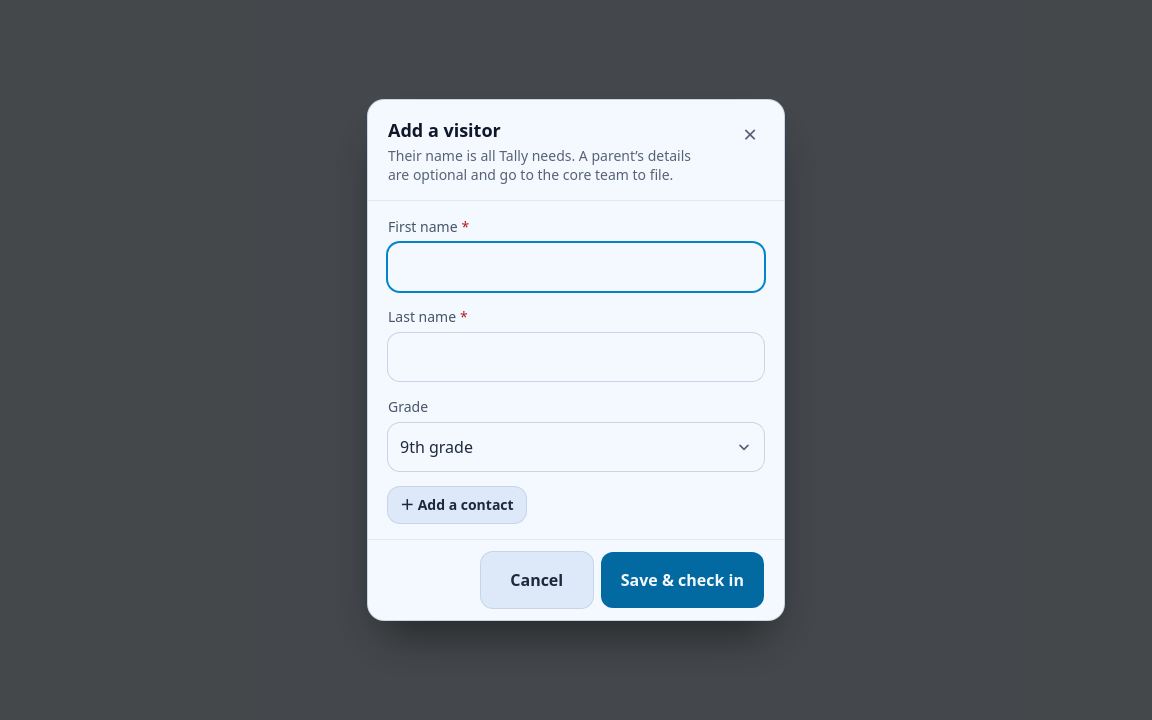
Test: the contact › refuses a name with no number behind it
In the field labelled "First name*": (576, 267) [388, 243, 764, 291], type "Robin"
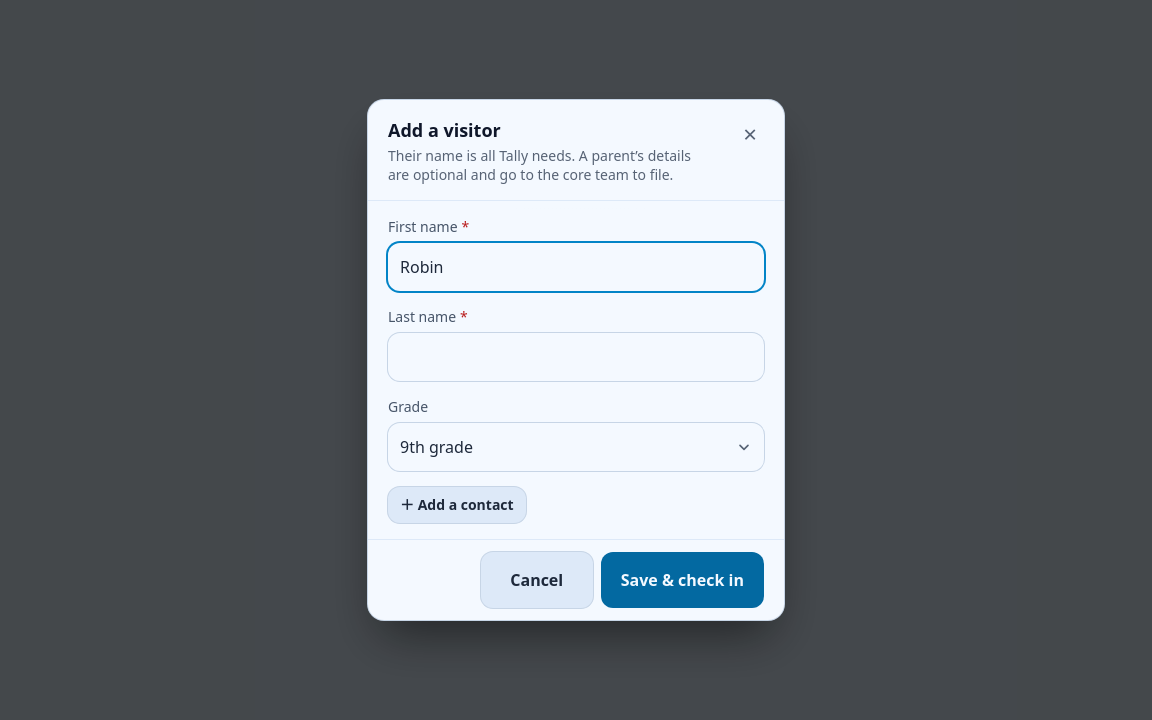
In the field labelled "Last name*": (576, 357) [388, 333, 764, 381], type "Fields"
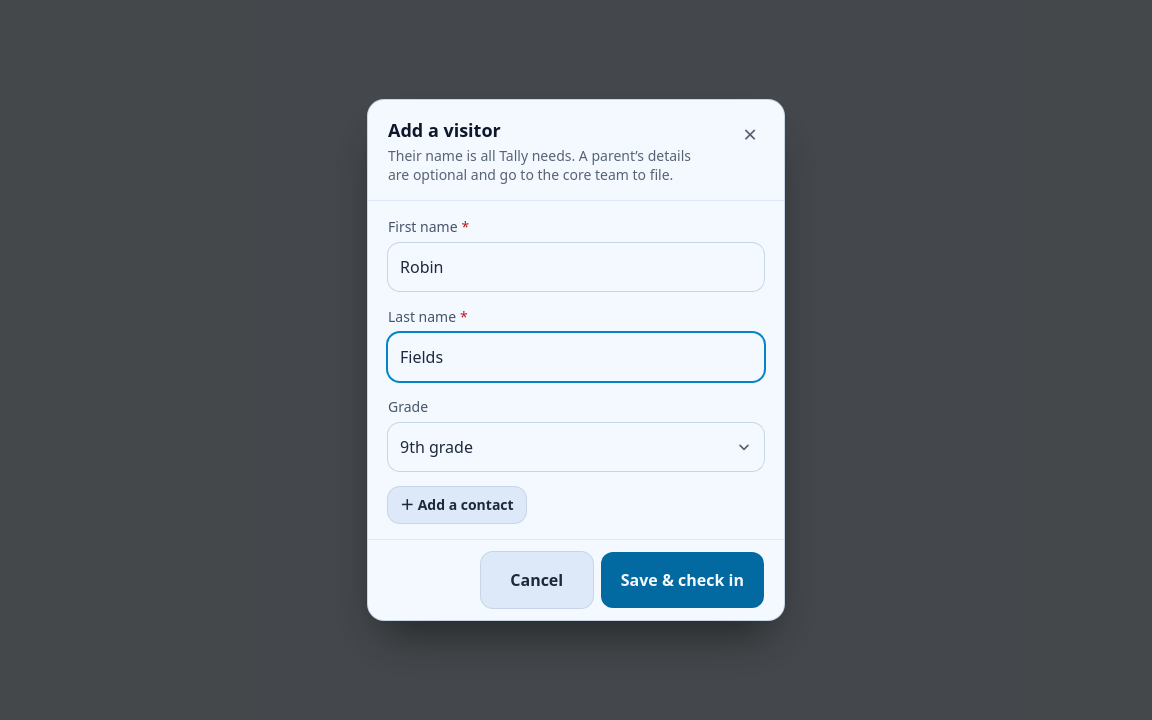
Click the button "＋ Add a contact": (457, 505) [388, 487, 526, 523]
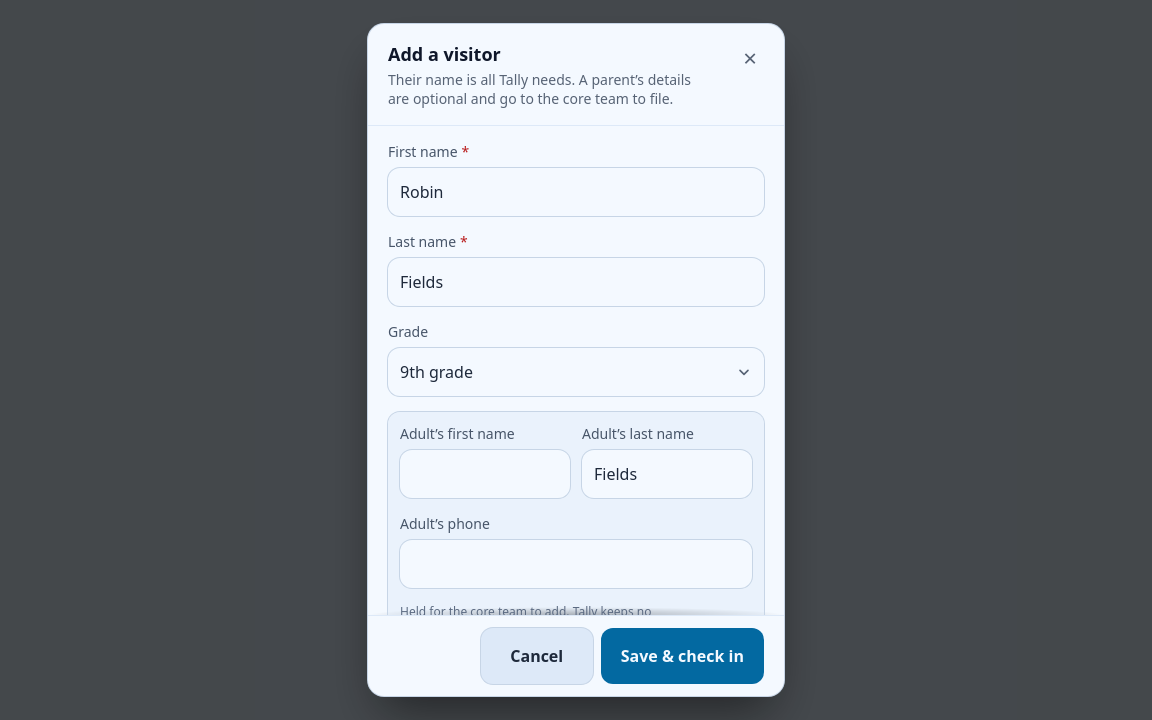
In the field labelled "Adult’s first name": (485, 474) [400, 450, 570, 498], type "Dana"
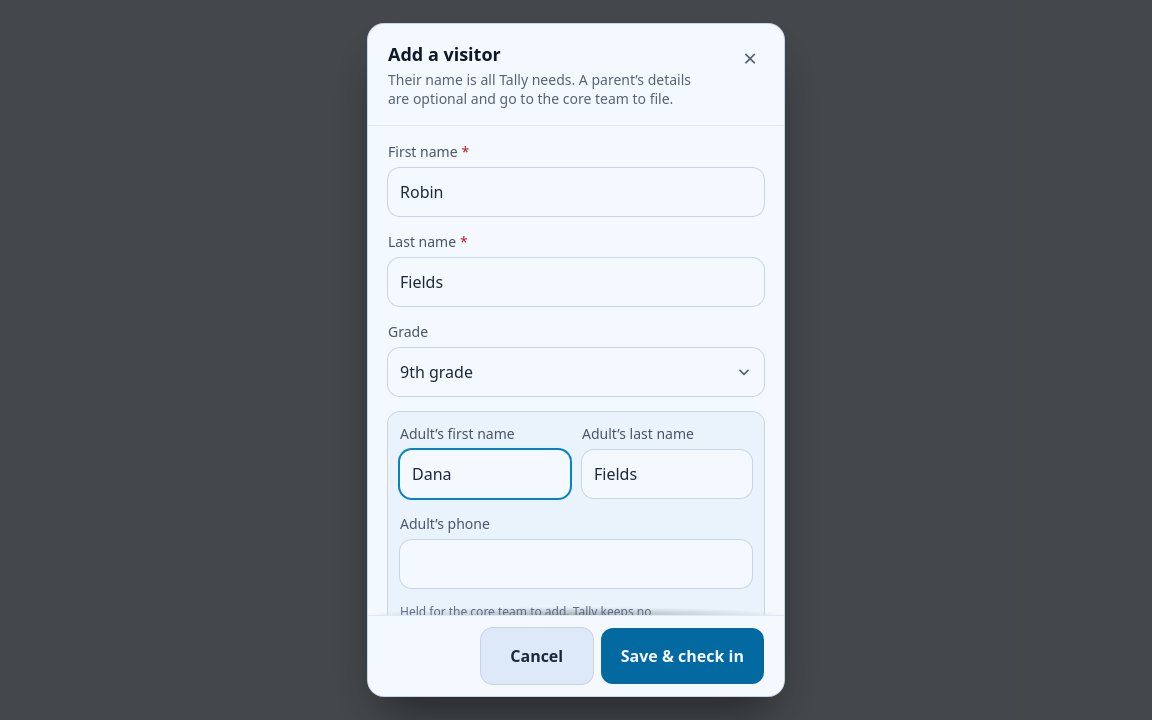
Click the button "Save & check in": (682, 656) [601, 628, 764, 684]
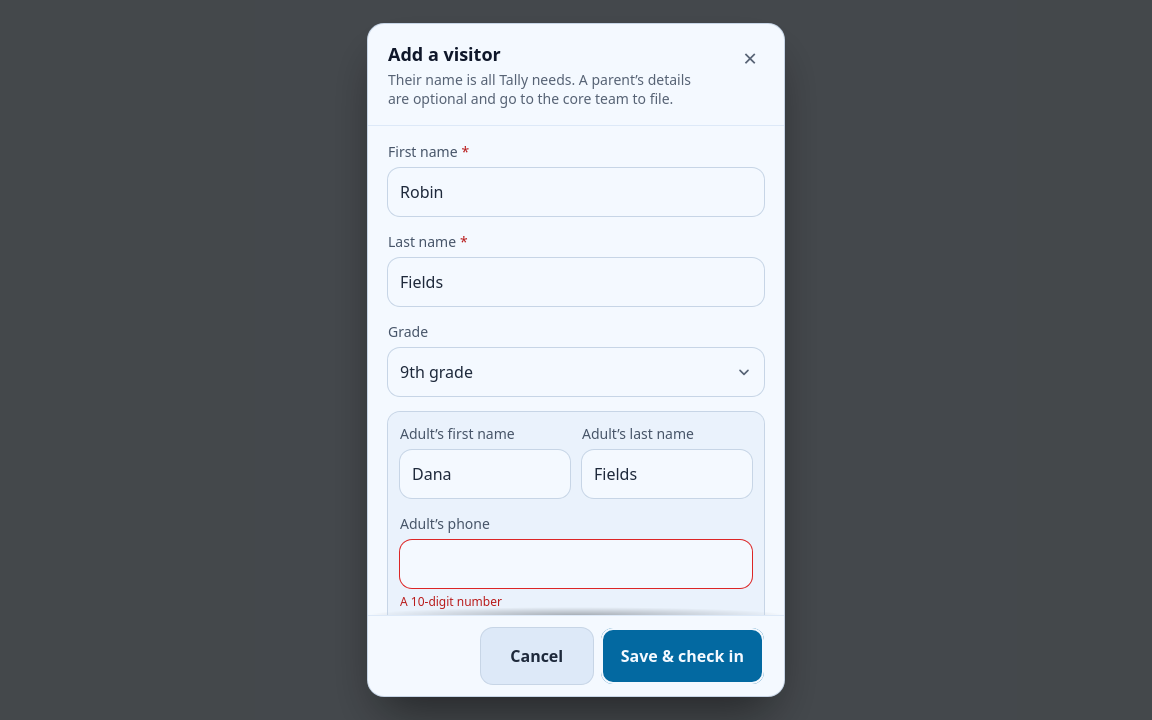
Result: the text "A 10-digit number" is shown at [400, 592, 502, 610]
